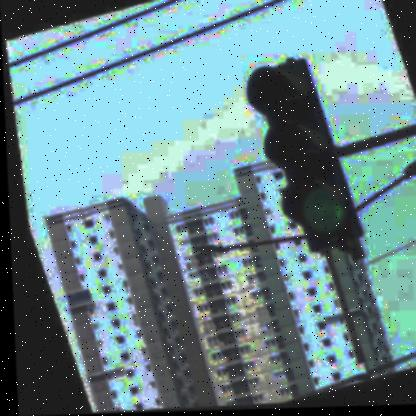Traffic Light -Green-: (233, 57, 361, 259)
